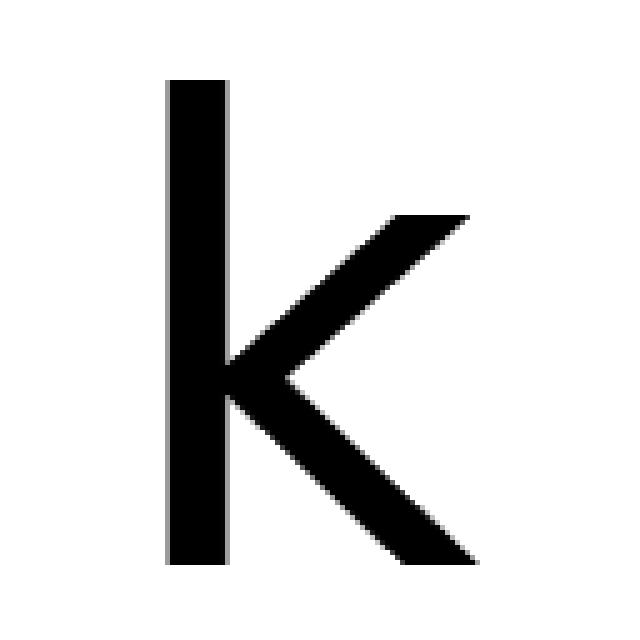K: (155, 70, 485, 575)
